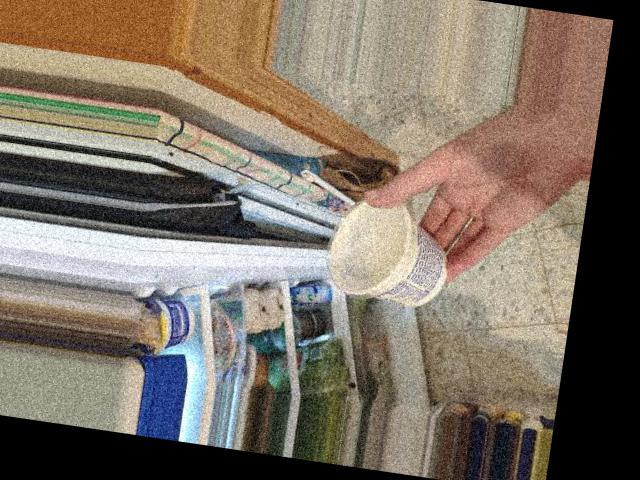cotage: (322, 193, 458, 302)
